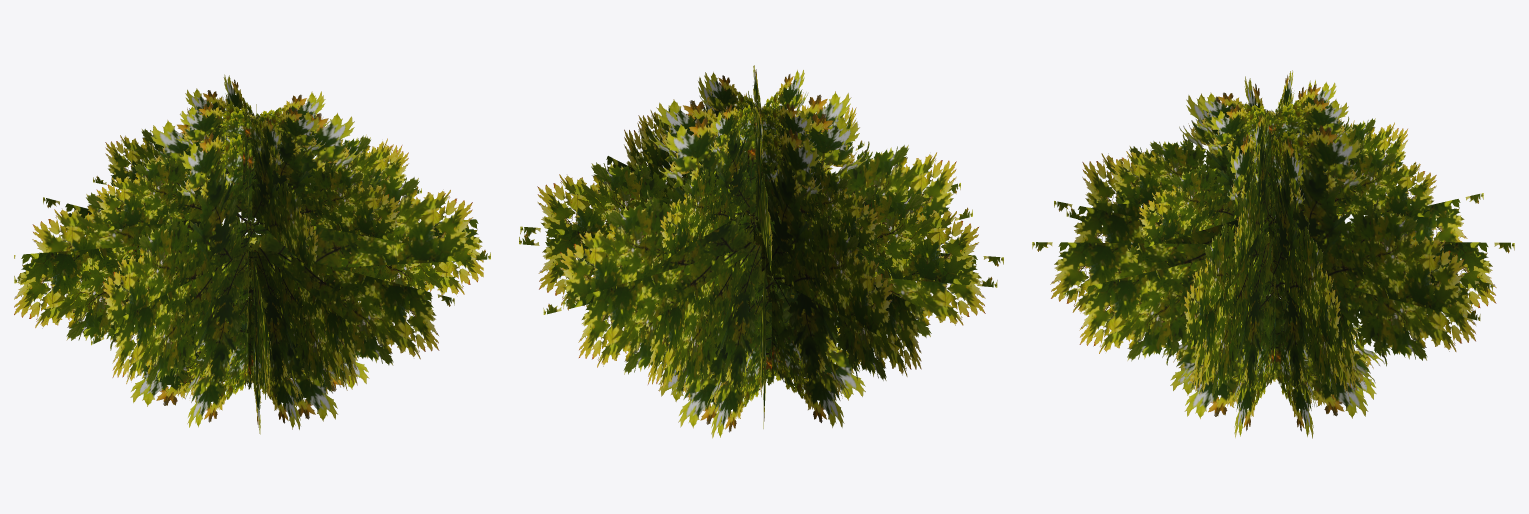
File: leafCluster.fbx
The picture shows the model from 3 angles, left to right: view 1: azimuth 30°, elevation 25°; view 2: azimuth 150°, elevation 25°; view 3: azimuth 270°, elevation 25°; orthographic projection. The views are drawn at different scales.
Visible parts, largest first — view 1: leaves; view 2: leaves; view 3: leaves.
Part boxes in pixels (bbox=[...]): leaves: bbox=[14, 74, 490, 434]; leaves: bbox=[519, 65, 1003, 438]; leaves: bbox=[1032, 70, 1514, 438].
Bounding box in the file's own units: 3904 × 2906 × 4070.
